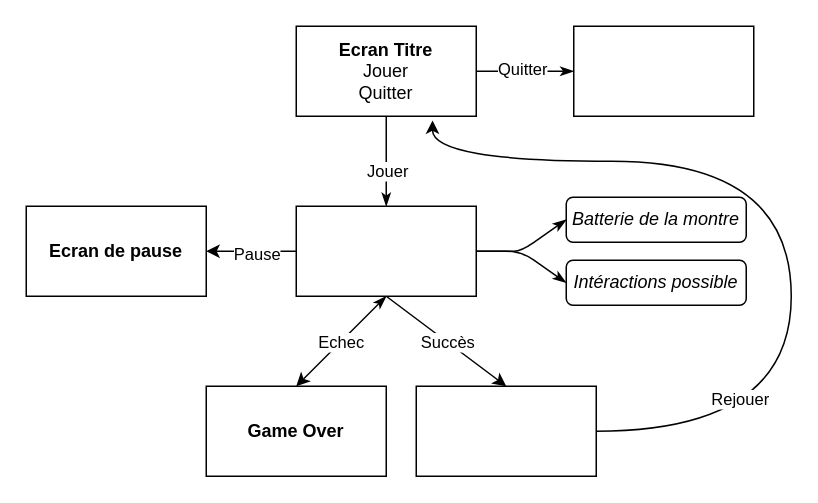
Image size: 818x503. Some labels were removed from this diagram. The centre of each missing label's shape, as x and y in pixels:
"Ecran de fin" belongs at pixel 505 430.
"Lance le premier niveau" belongs at pixel 385 250.
"Quitte le jeu" belongs at pixel 663 70.
